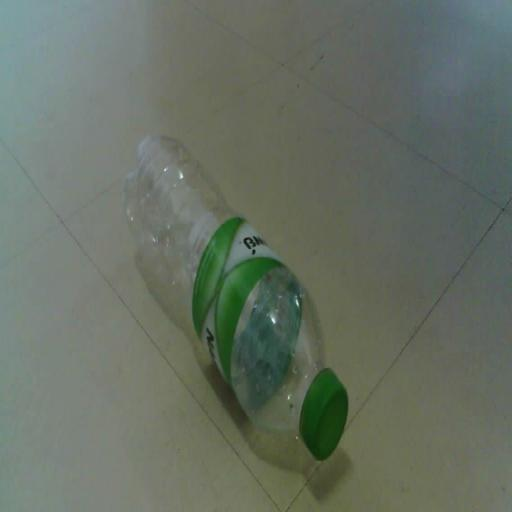bottle: (90, 101, 360, 479)
